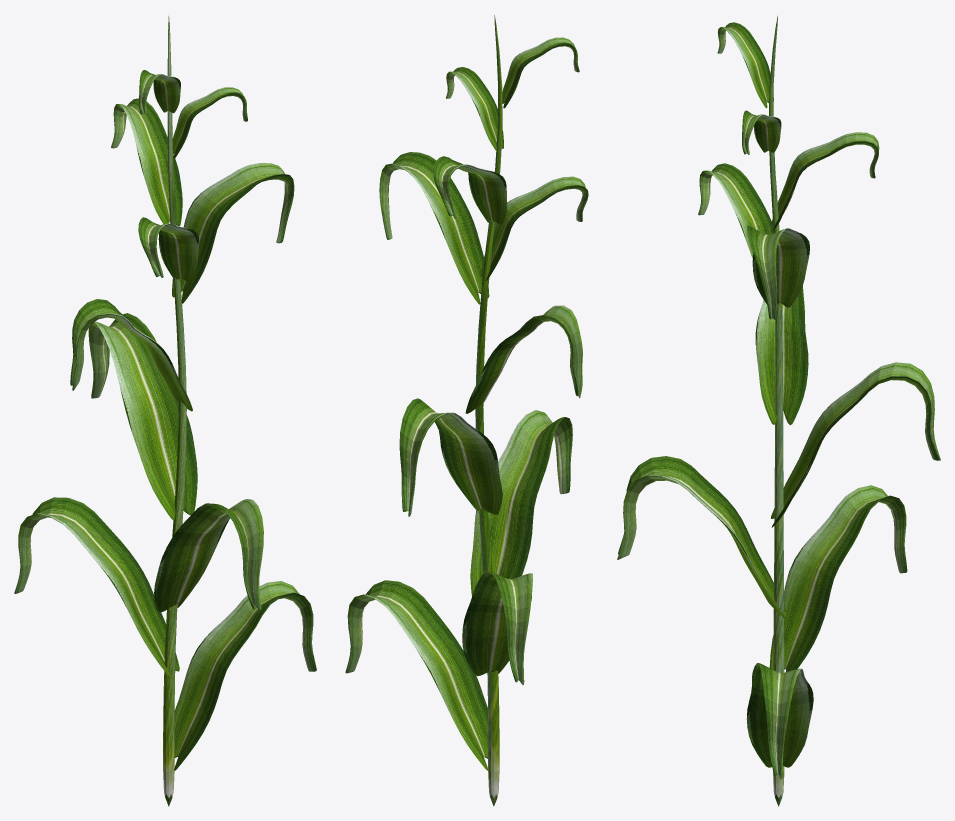
The model's file is Corn-MediumPoly-Fix.fbx.
3 views of the same model, side by side, from view 1: azimuth 30°, elevation 25°; view 2: azimuth 150°, elevation 25°; view 3: azimuth 270°, elevation 25° (orthographic).
Visible parts, largest first — view 1: Plane.002; view 2: Plane.002; view 3: Plane.002.
Boxes of the visible parts, x1,y1,x2,y2 form: Plane.002: (14, 16, 316, 806); Plane.002: (345, 15, 588, 806); Plane.002: (617, 16, 940, 806).
Size of the model in its own units: 62.62 by 198 by 73.28.
1 material, 1 textured.
